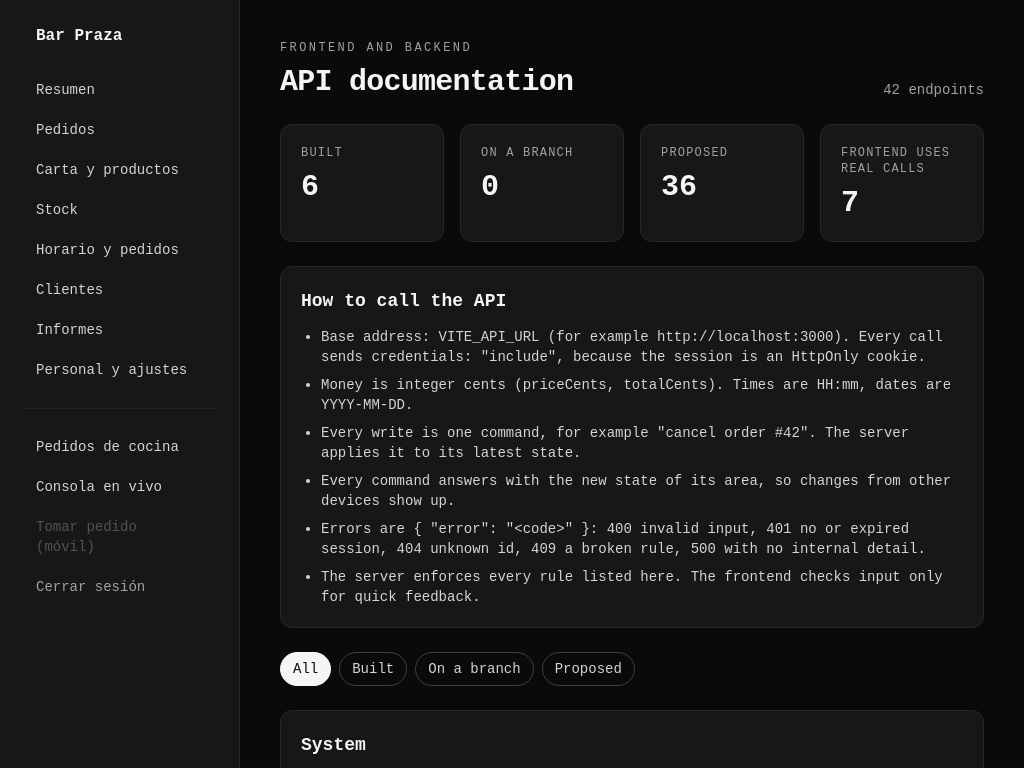
Scenario: API documentation › filters to the endpoints that are built, and hides the rest
Expected: the heading "API documentation" is shown, [280, 64, 573, 100]
Click the button "Built": (373, 669) [339, 652, 407, 686]
(page scrolled)
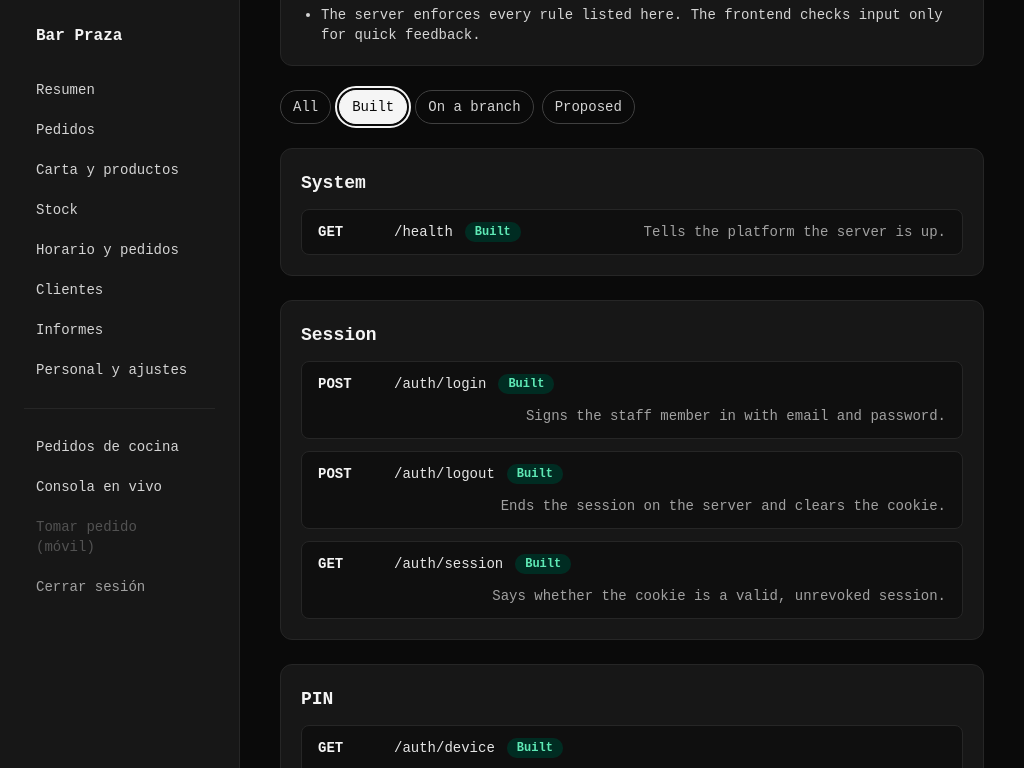
Result: the text "/auth/login" is shown at [394, 374, 486, 394]
